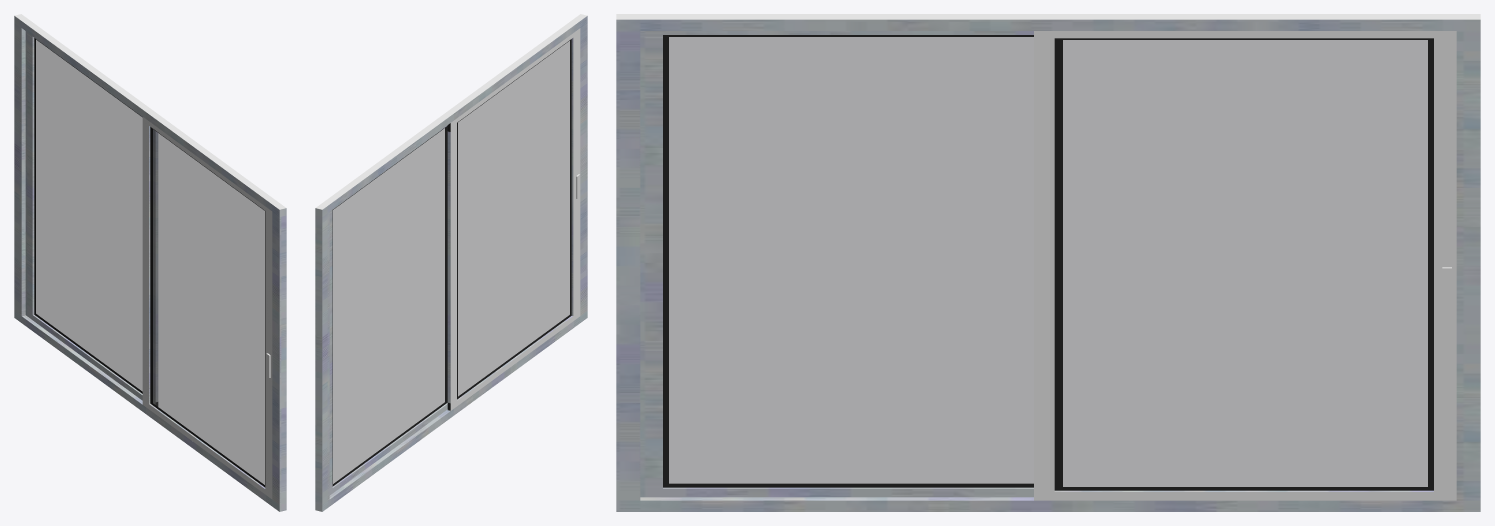
3 renders of one model, left to right at view 1: azimuth 30°, elevation 25°; view 2: azimuth 150°, elevation 25°; view 3: azimuth 270°, elevation 25°, orthographic. The views are drawn at different scales.
Visible parts, largest first — view 1: Mesh1_Group2_Group1_Model.002; view 2: Mesh1_Group2_Group1_Model.002; view 3: Mesh1_Group2_Group1_Model.002.
Part boxes in pixels (x1,y1,x2,y2): Mesh1_Group2_Group1_Model.002: [14, 14, 286, 511]; Mesh1_Group2_Group1_Model.002: [315, 14, 587, 511]; Mesh1_Group2_Group1_Model.002: [616, 14, 1480, 511].
Bounding box in the file's own units: 0.0217 × 0.6283 × 0.9996.
4 materials, 1 textured.
